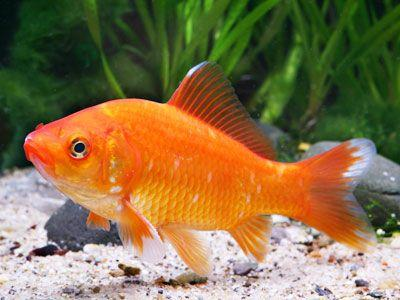Gold Fish: (23, 59, 381, 281)
